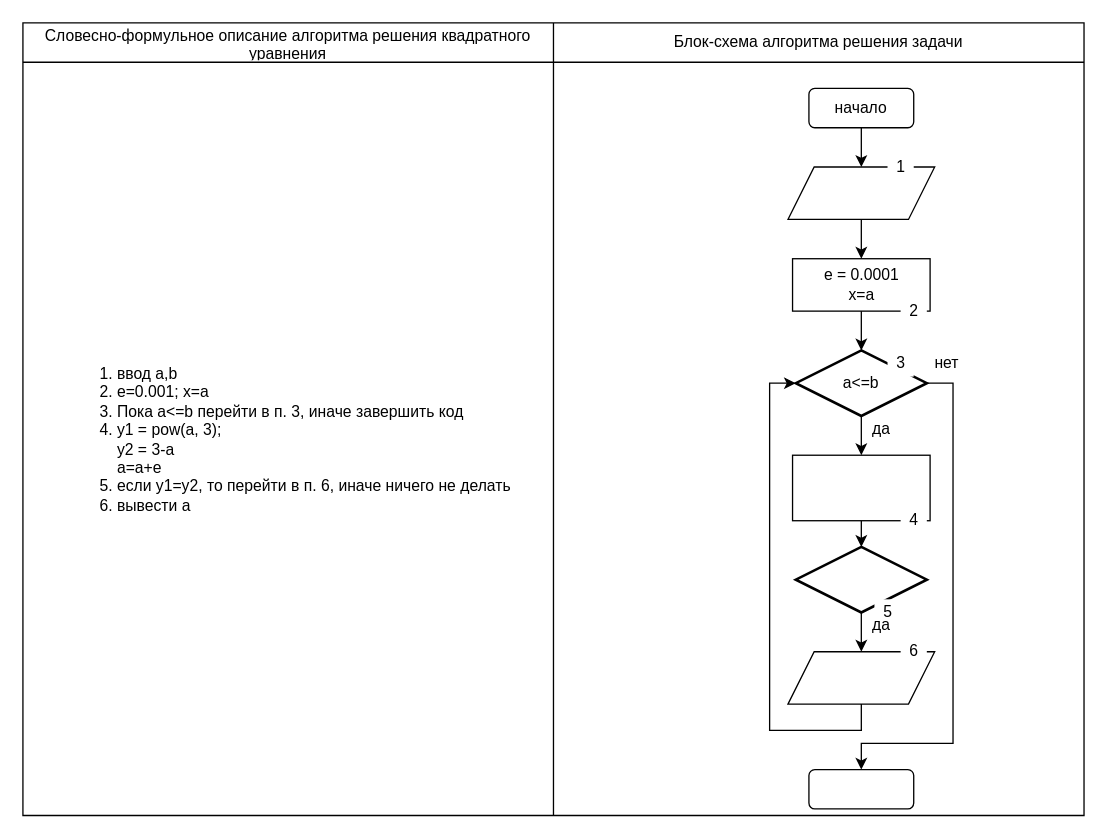
Some shapes in this 1107 by 838 pixel diagram are drawn without their labels. Here are the shapes that lost their labels. From the top down, the box of each, then its label:
(787, 166, 935, 219): ввод a,b
(791, 454, 930, 521): y1 = pow(a, 3); y2 = 3-a a=a+e
(794, 545, 927, 613): y1==y2
(787, 650, 935, 704): вывод а
(808, 768, 914, 809): конец
